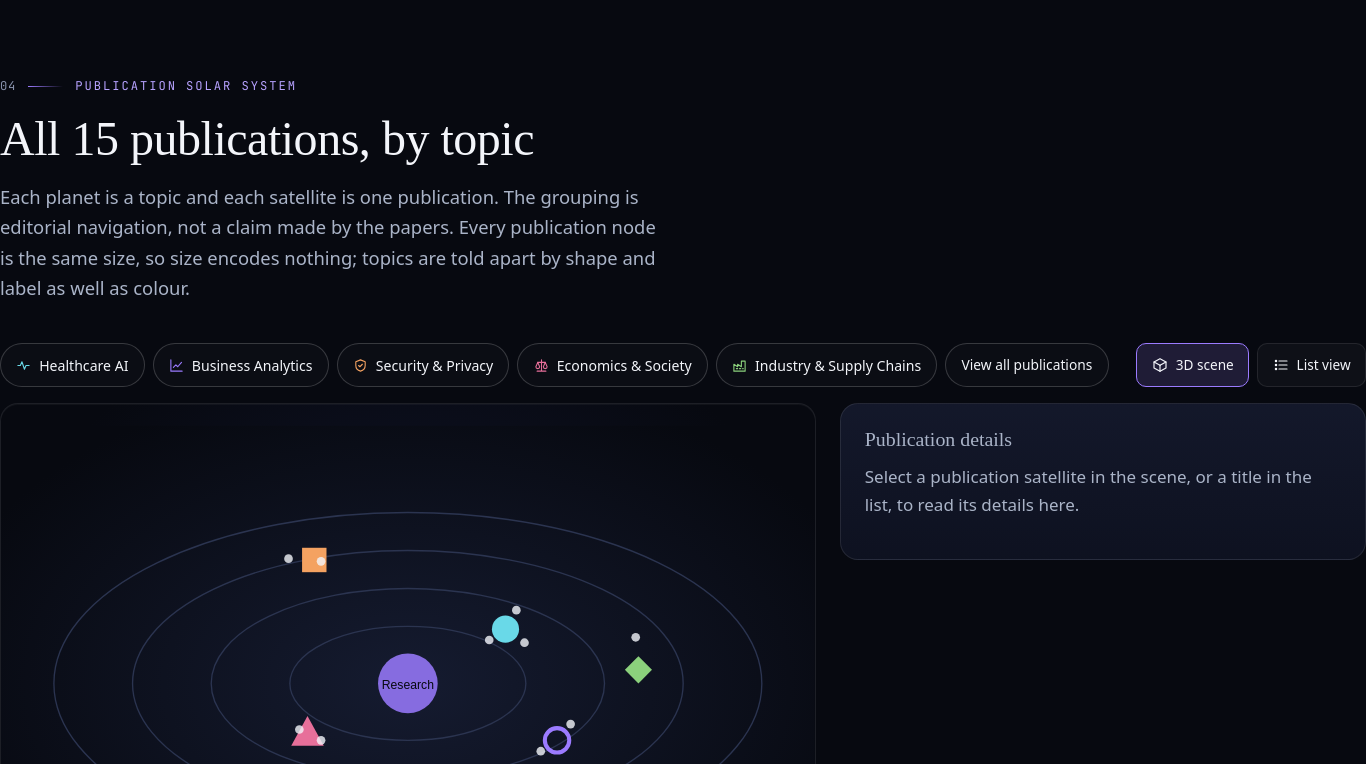
Scenario: selection is shared between the list and the solar-system panel › topic buttons filter the directory and "View all publications" resets
Click the button "Healthcare AI" at [72, 365], box 0,343 -> 145,387
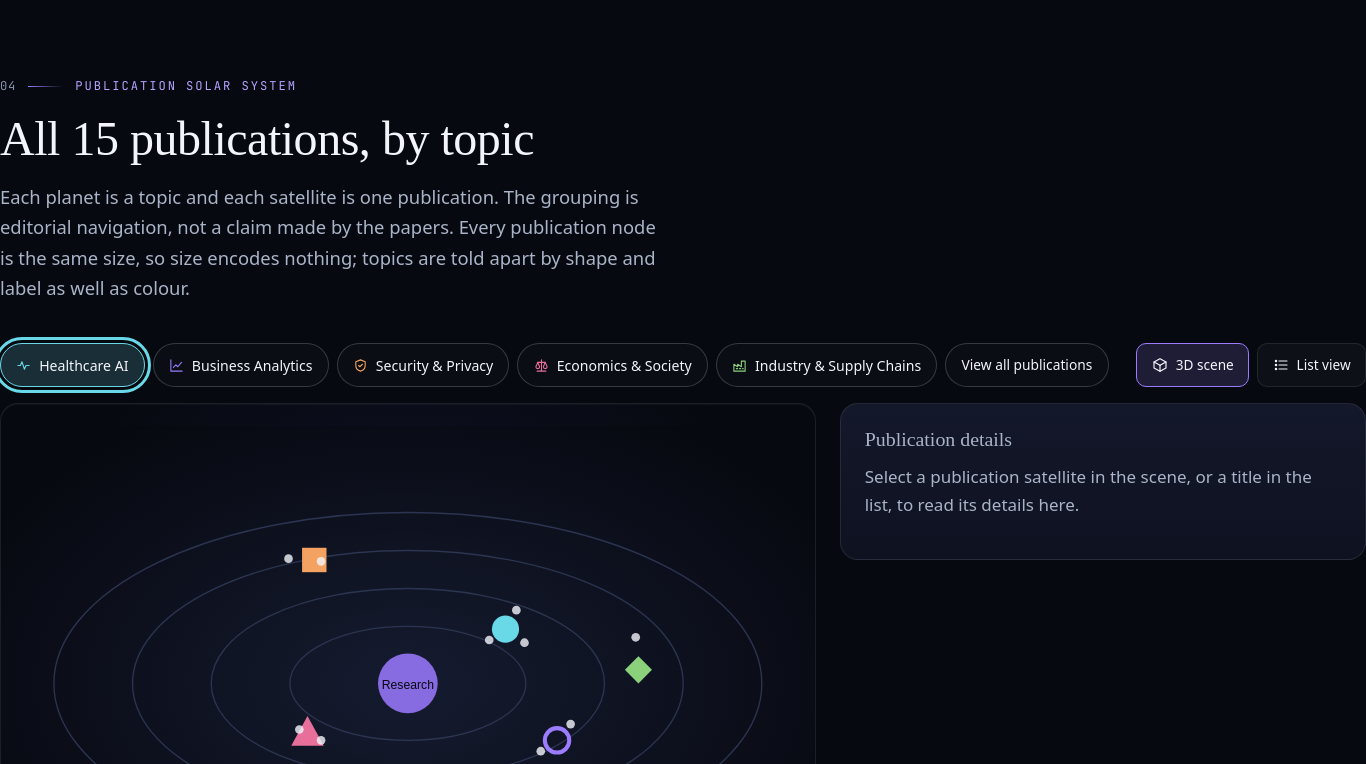
Click the button "View all publications" at [1027, 365], box 945,343 -> 1109,387
(page scrolled)
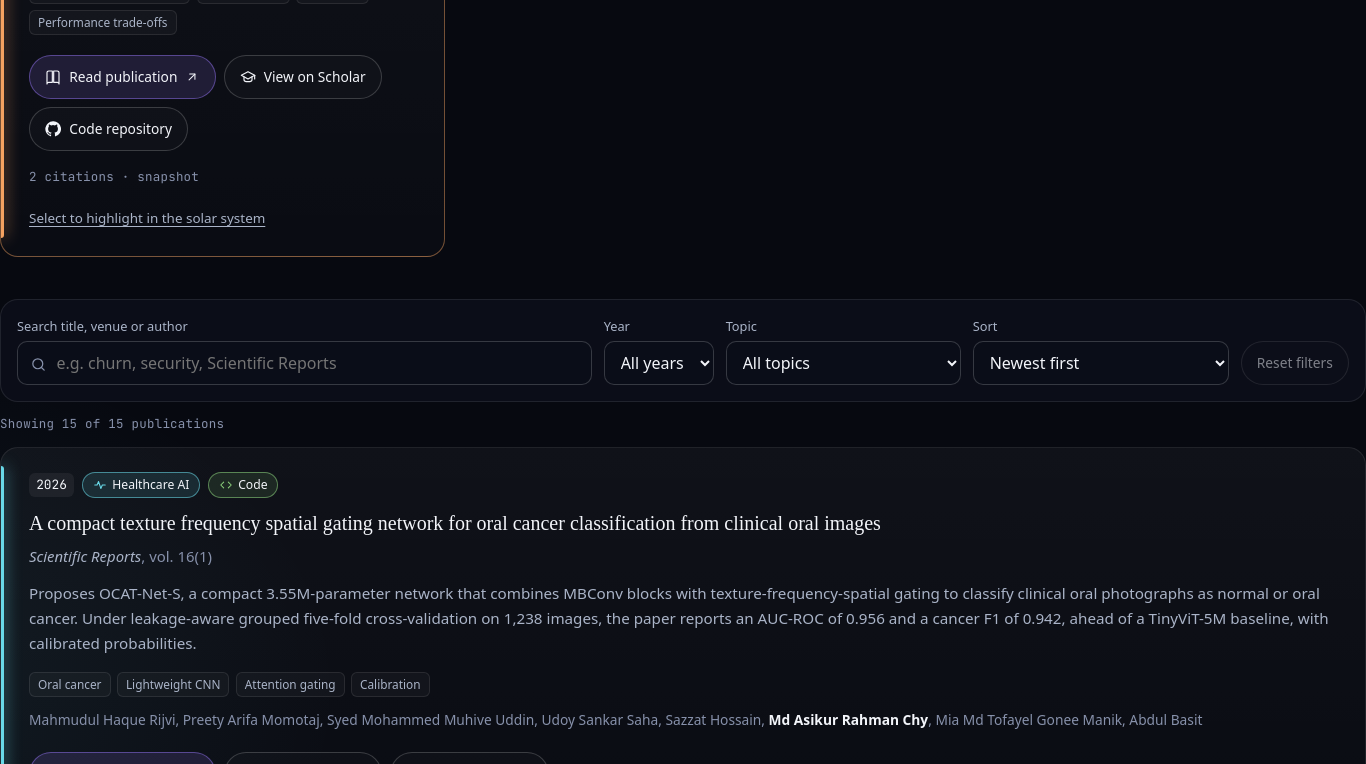
Expected: the text "Showing 15 of 15 publications" is shown, 0,415 -> 224,432
